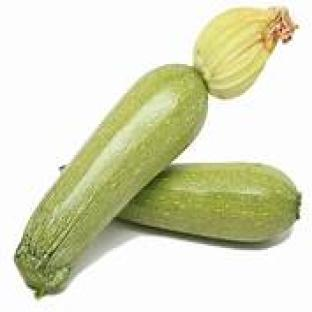Zucchini: (15, 64, 207, 296), (119, 163, 299, 242)
